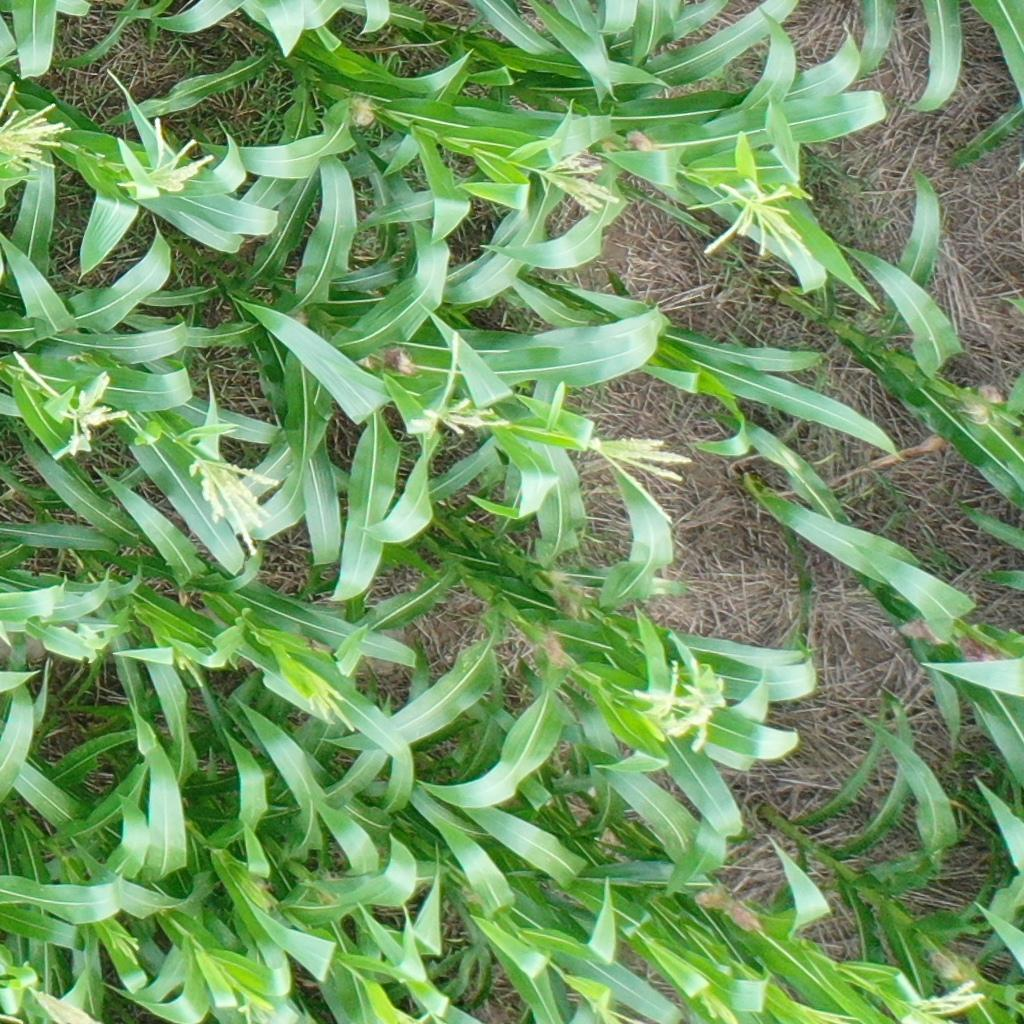Tassel: (8, 348, 130, 458), (406, 332, 512, 438), (701, 178, 821, 266), (586, 434, 694, 527), (187, 458, 279, 558), (633, 660, 725, 754), (113, 118, 216, 190), (1, 81, 73, 175), (541, 148, 622, 215), (895, 972, 984, 1020), (303, 679, 358, 735), (29, 988, 102, 1024), (793, 1002, 862, 1024), (698, 992, 737, 1024), (108, 929, 141, 965), (237, 998, 278, 1024), (174, 653, 204, 688), (594, 1005, 639, 1024), (392, 1008, 419, 1024)
